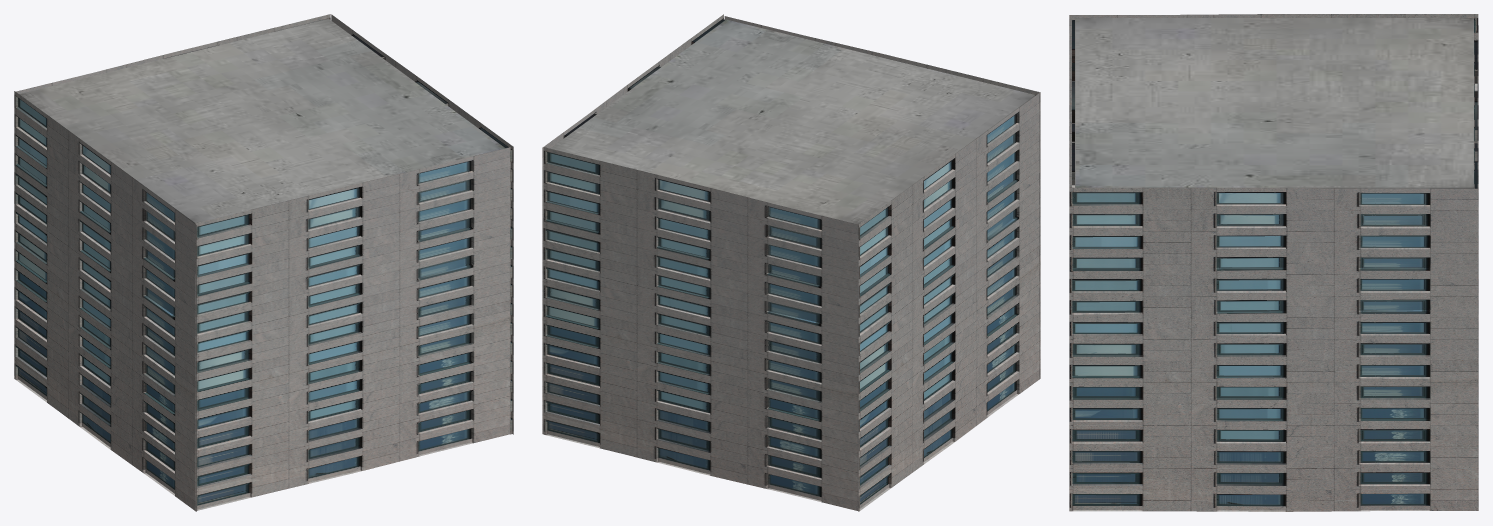
The model's file is Mordern Building2(04-15).FBX.
3 views of the same model, side by side, from view 1: azimuth 30°, elevation 25°; view 2: azimuth 150°, elevation 25°; view 3: azimuth 270°, elevation 25° (orthographic). The views are drawn at different scales.
Visible parts, largest first — view 1: Box001; view 2: Box001; view 3: Box001.
Part boxes in pixels (box(x1,y1,x2,y2)): Box001: box(14, 14, 513, 511); Box001: box(542, 14, 1040, 511); Box001: box(1069, 14, 1478, 511).
Size of the model in its own units: 231 by 201 by 230.
